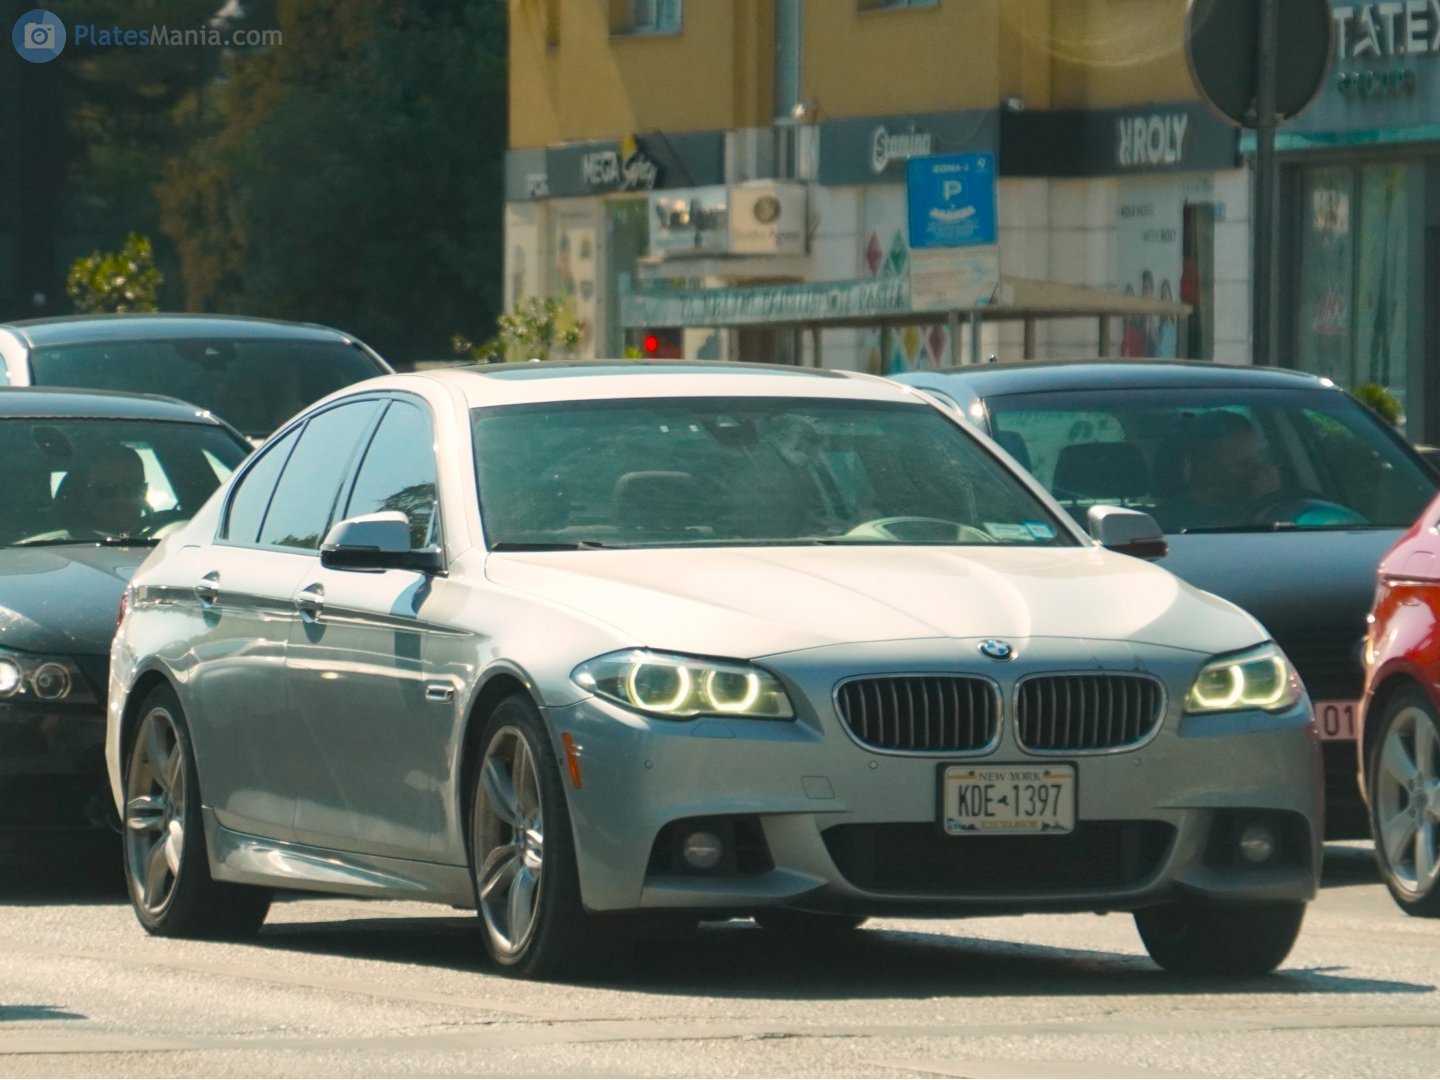license plate: (945, 758, 1072, 842)
